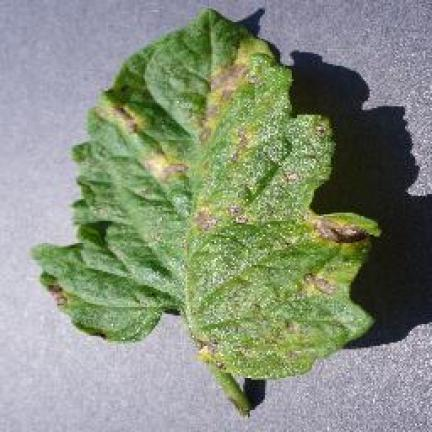disease: (34, 10, 378, 376)
leaf: (143, 154, 187, 179)
